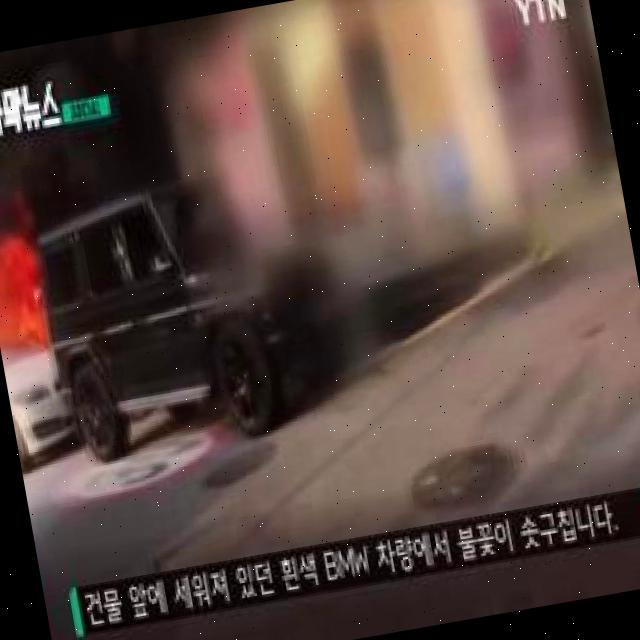fire: (0, 259, 55, 361)
